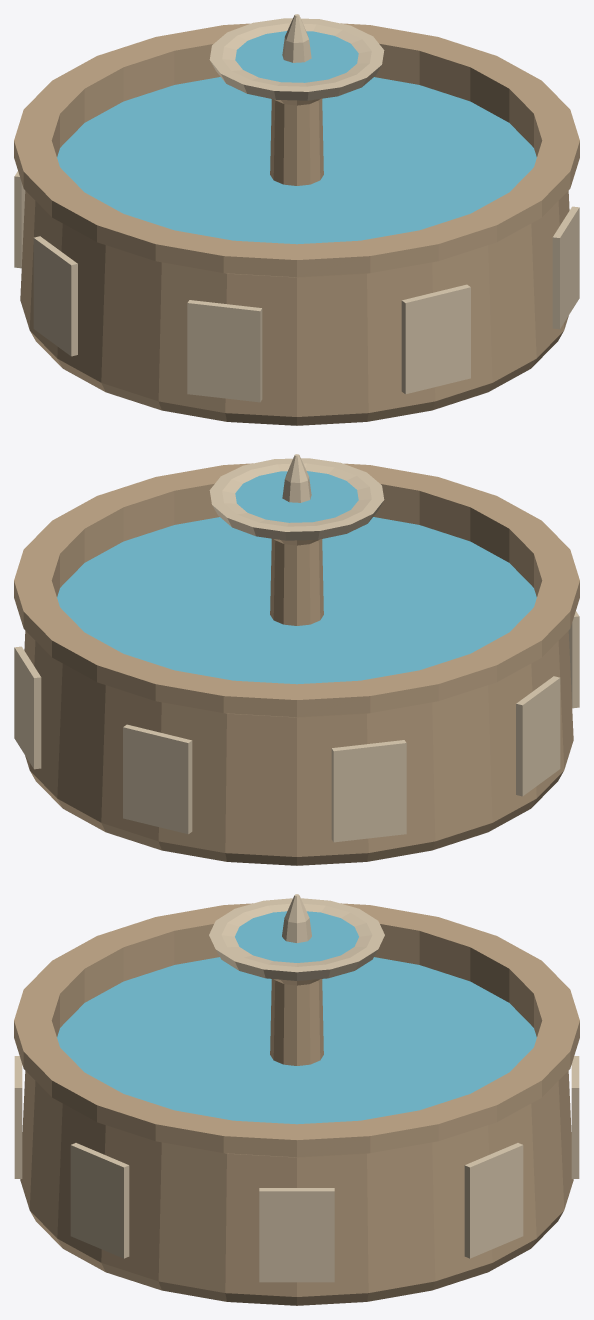
File: fountain.glb
3 renders of one model, top to bottom at view 1: azimuth 30°, elevation 25°; view 2: azimuth 150°, elevation 25°; view 3: azimuth 270°, elevation 25°, orthographic.
Parts seen in each view (by area): view 1: fountain; view 2: fountain; view 3: fountain.
Boxes of the visible parts, x1=… form: fountain: x1=14, y1=14, x2=579, y2=425; fountain: x1=14, y1=454, x2=579, y2=865; fountain: x1=14, y1=894, x2=579, y2=1305.
Size of the model in its own units: 0.9 by 0.52 by 0.9.
